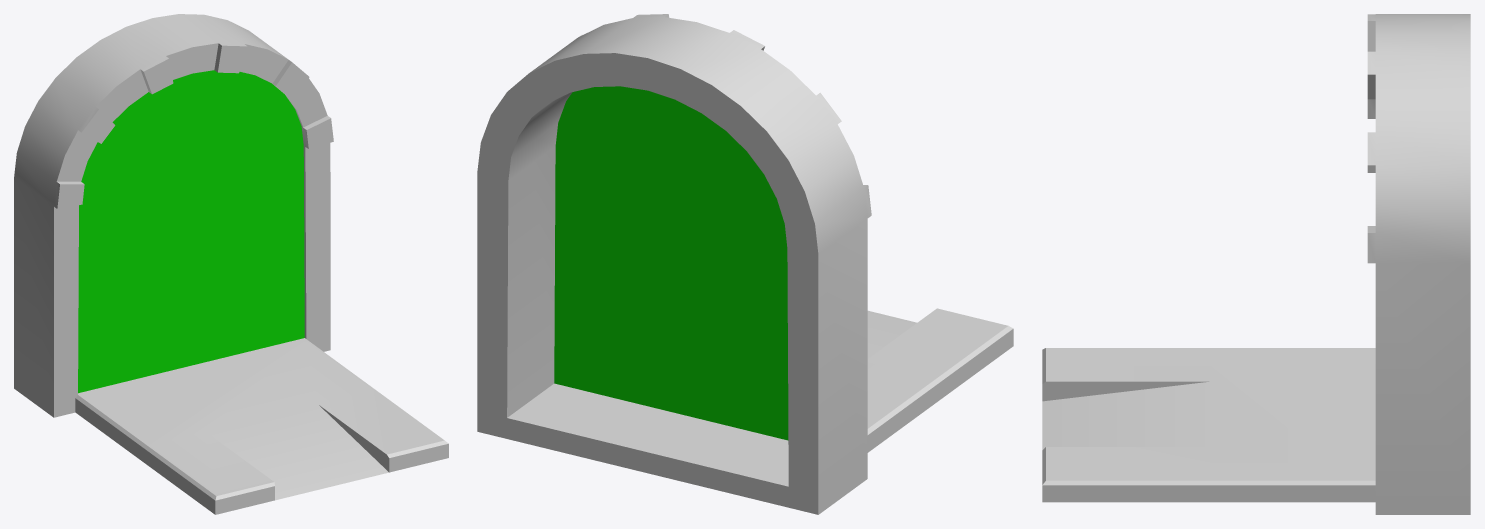
Rendered from TunnelPortal.fbx.
3 views of the same model, side by side, from view 1: azimuth 30°, elevation 25°; view 2: azimuth 150°, elevation 25°; view 3: azimuth 270°, elevation 25° (orthographic). The views are drawn at different scales.
Parts seen in each view (by area): view 1: PortalDoor, Portal; view 2: PortalDoor, Portal; view 3: PortalDoor.
Part boxes in pixels (bbox=[...]): PortalDoor: bbox=[14, 14, 448, 514]; Portal: bbox=[78, 70, 304, 393]; PortalDoor: bbox=[477, 14, 1013, 514]; Portal: bbox=[554, 86, 788, 440]; PortalDoor: bbox=[1042, 14, 1470, 514].
Size of the model in its own units: 1525 by 1774 by 1717.
